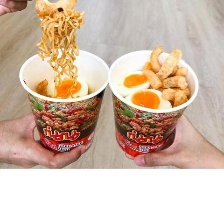paper_cup: (105, 45, 203, 160), (15, 42, 112, 158)
